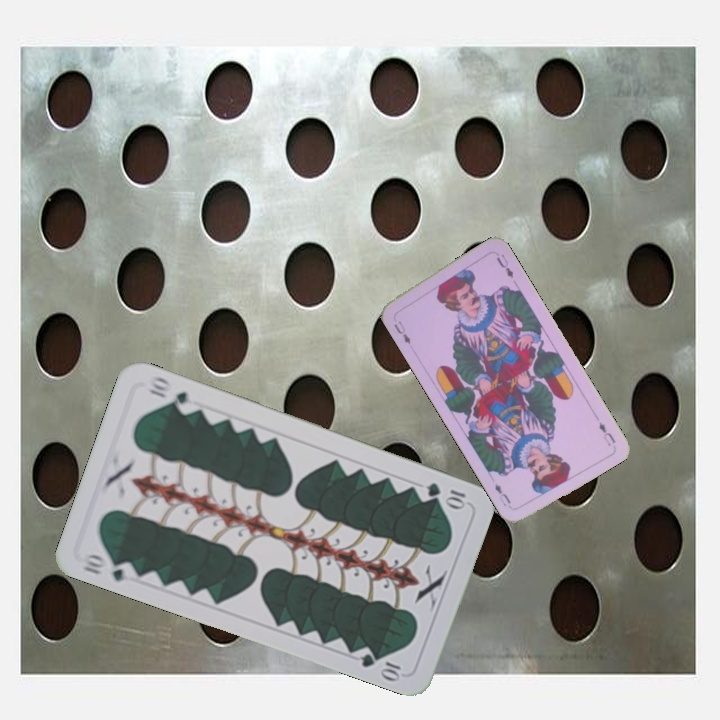EU: (595, 418, 618, 449), (390, 317, 413, 347)
G10: (78, 550, 138, 584), (422, 478, 468, 510)
